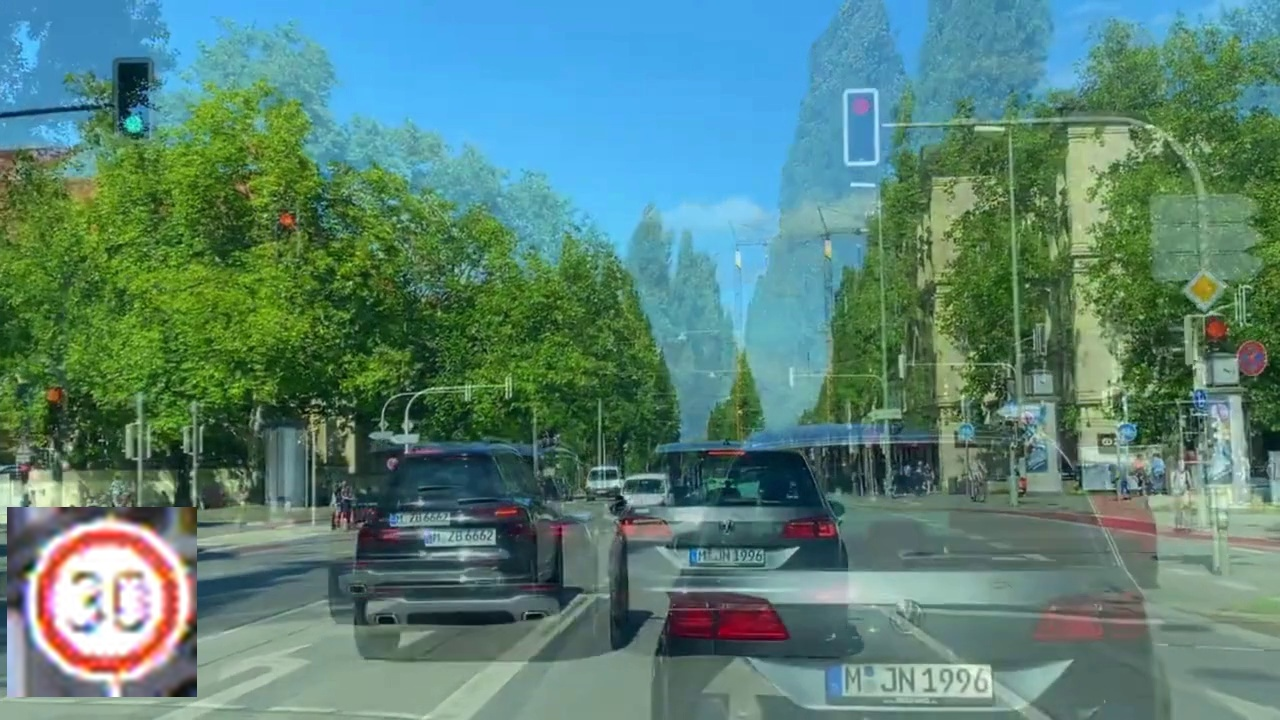Speed 30: (7, 507, 197, 697)
